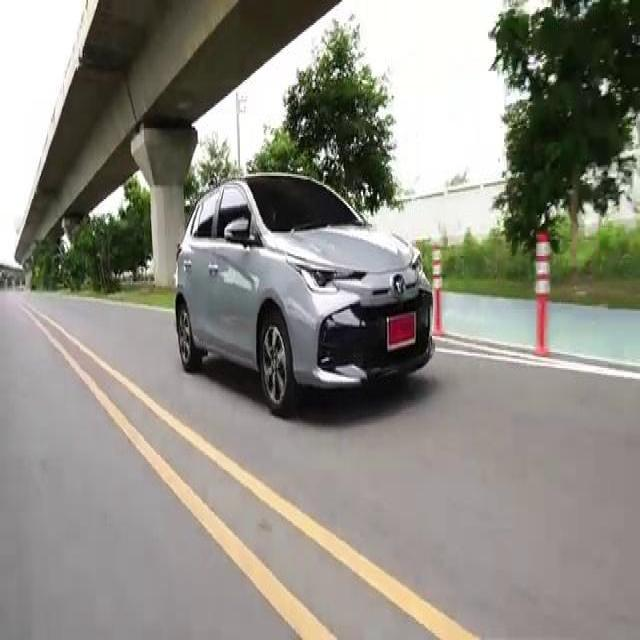Hatchback: (175, 172, 434, 412)
